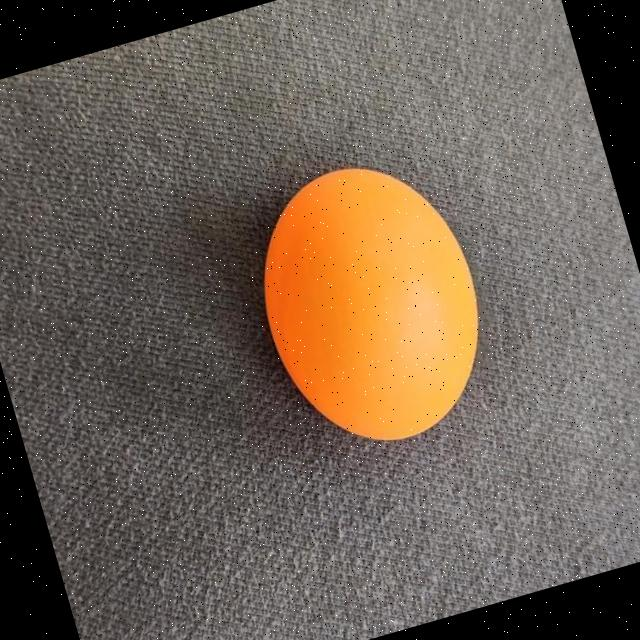ping-pong-ball: (218, 125, 520, 472)
